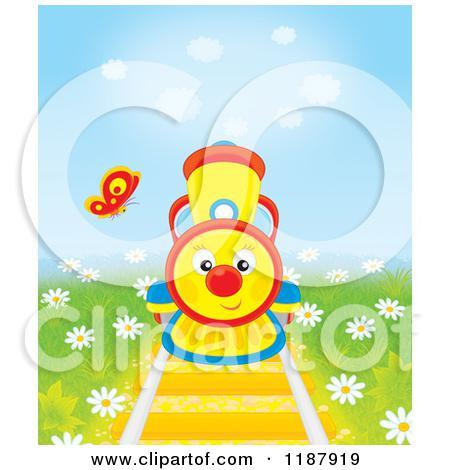train: (145, 138, 301, 365)
